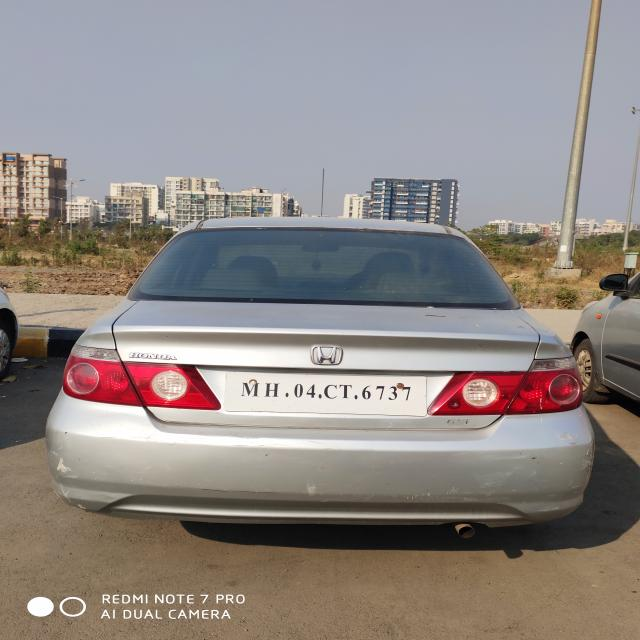Number-Plate: (232, 376, 424, 412)
